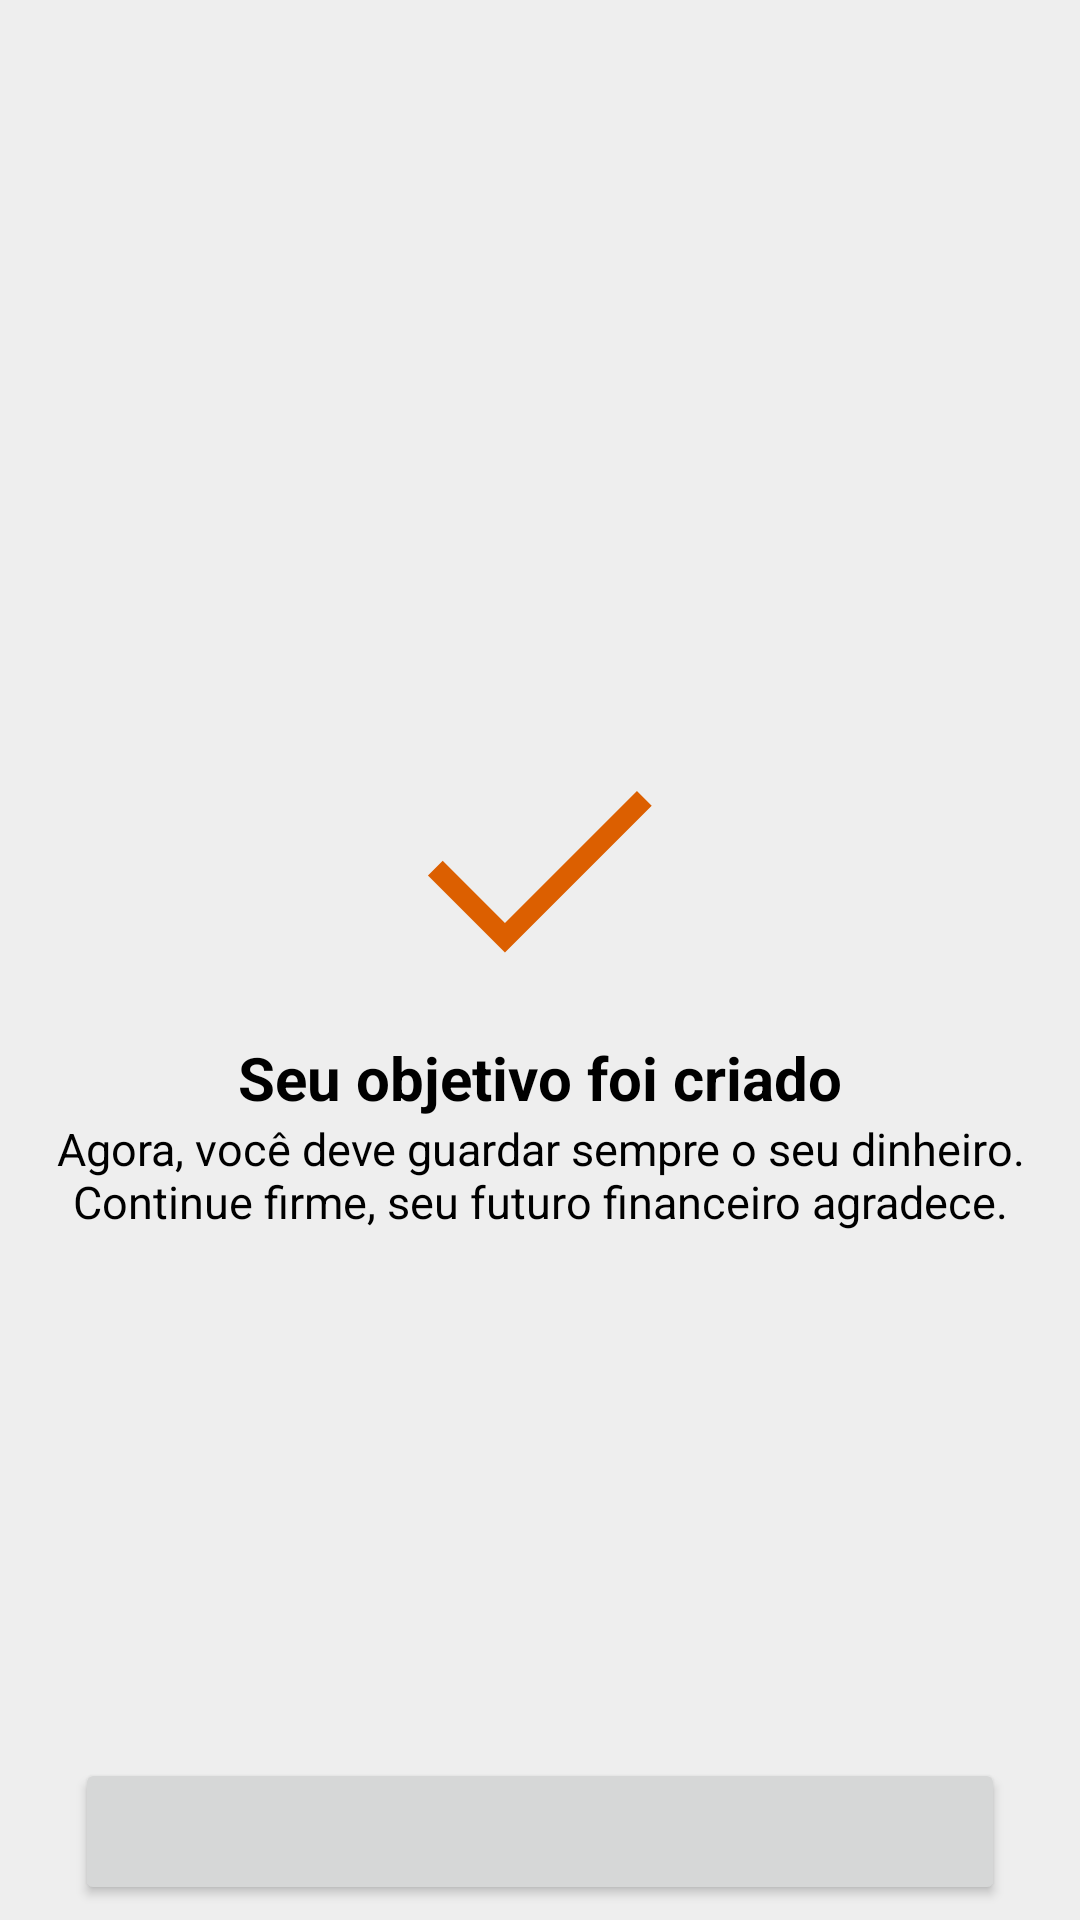

Icon bounding boxes for this 1080 x 1920 phone screenshot, format {"left": x1, "top": y1, "right": x2, "bottom": y2}:
check: {"left": 428, "top": 791, "right": 652, "bottom": 953}
